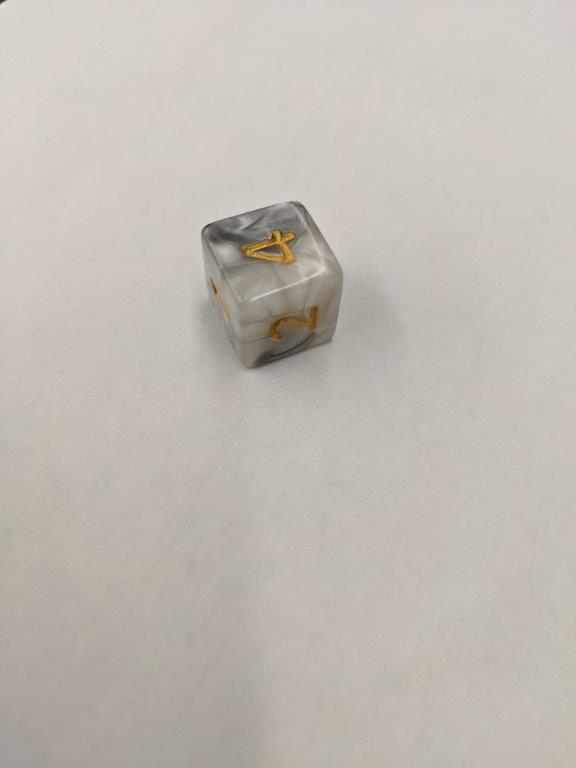d6-4: (199, 200, 344, 370)
